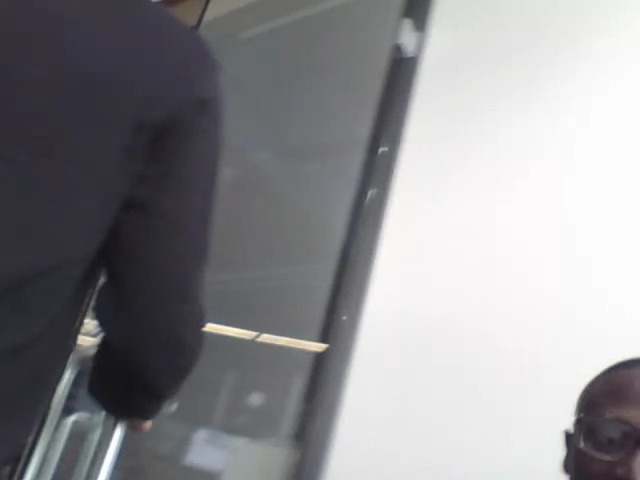face: (573, 361, 640, 480)
